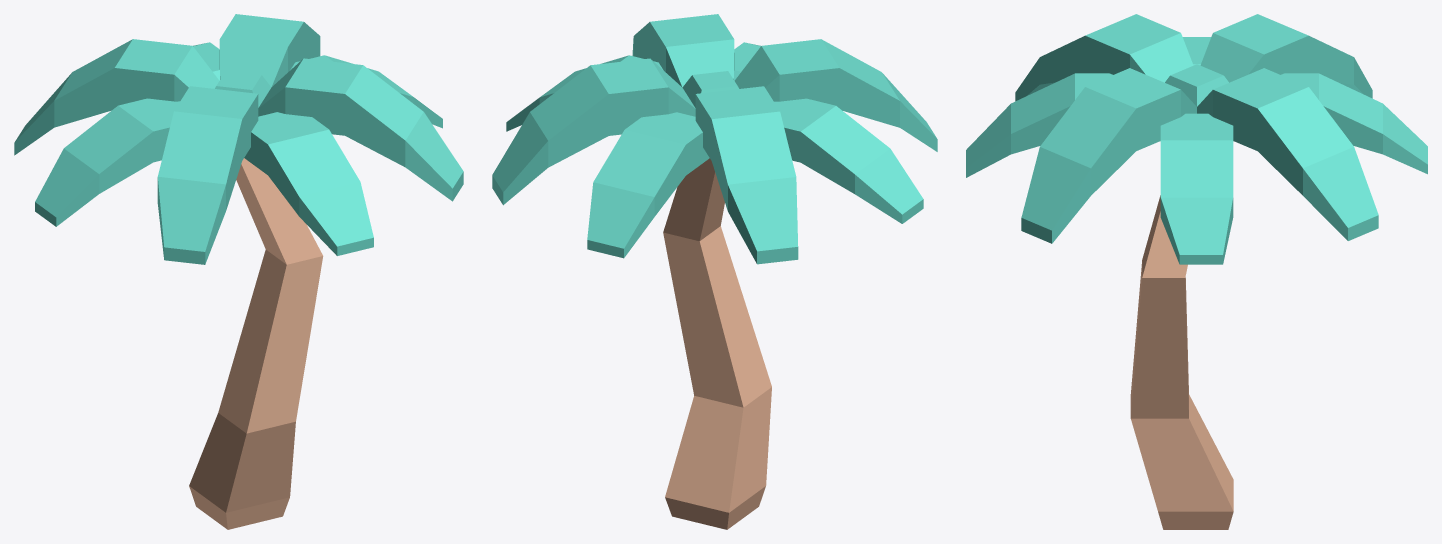
The picture shows the model from 3 angles, left to right: view 1: azimuth 30°, elevation 25°; view 2: azimuth 150°, elevation 25°; view 3: azimuth 270°, elevation 25°; orthographic projection. The views are drawn at different scales.
Parts seen in each view (by area): view 1: leafs (×2), tree_palmDetailedShort; view 2: leafs (×2), tree_palmDetailedShort; view 3: leafs (×2), tree_palmDetailedShort.
Boxes of the visible parts, box(x1,y1,x2,y2) form: leafs (×2): box(14, 14, 463, 264); tree_palmDetailedShort: box(189, 158, 323, 529); leafs (×2): box(492, 14, 937, 264); tree_palmDetailedShort: box(663, 158, 771, 529); leafs (×2): box(966, 14, 1427, 264); tree_palmDetailedShort: box(1130, 195, 1233, 529).
Bounding box in the file's own units: 1.03 × 1.12 × 1.03.
